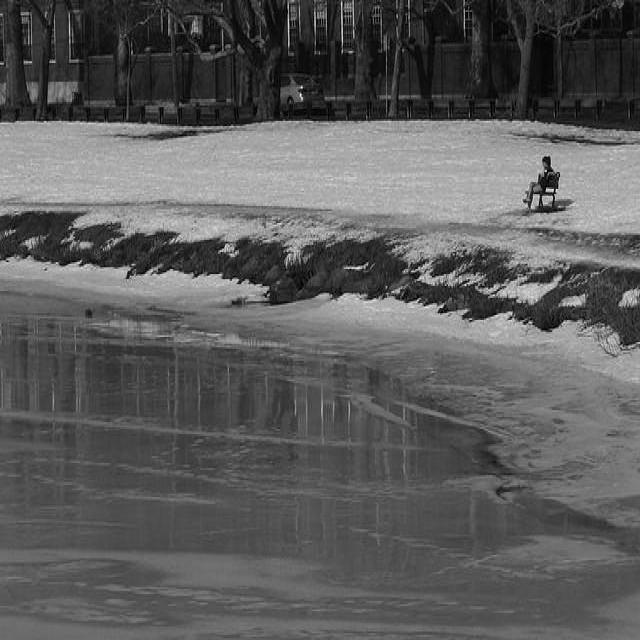vehicle: (281, 75, 305, 113)
